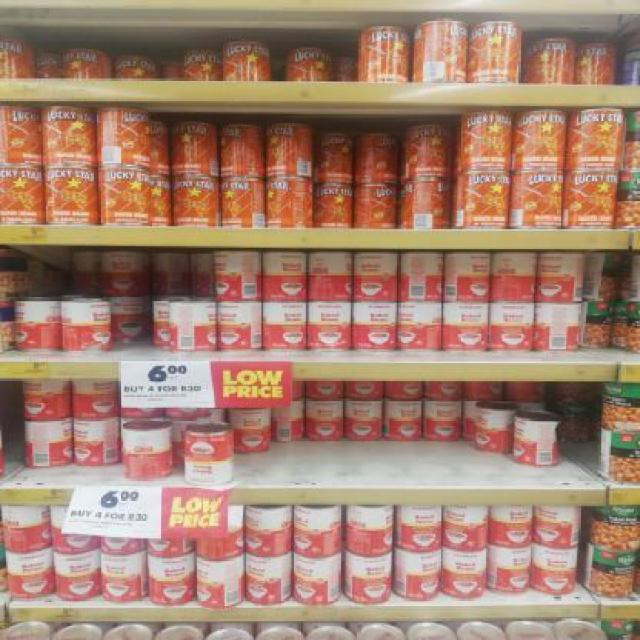Beans: (99, 104, 157, 144), (40, 165, 103, 201), (573, 110, 631, 148), (514, 109, 574, 145), (460, 109, 518, 146), (41, 107, 97, 141), (102, 167, 158, 201), (360, 22, 412, 58), (475, 23, 523, 60), (574, 167, 622, 204), (462, 174, 513, 208), (265, 252, 314, 286), (519, 169, 567, 203), (529, 40, 578, 71), (449, 254, 498, 285), (214, 299, 263, 330), (171, 120, 219, 151), (319, 129, 359, 166), (171, 178, 227, 204), (353, 300, 399, 331), (444, 301, 490, 332), (537, 251, 581, 283), (266, 301, 309, 333), (233, 406, 277, 437), (267, 125, 311, 156), (51, 552, 103, 578), (147, 556, 199, 582), (404, 548, 446, 580), (116, 50, 162, 79), (414, 124, 457, 155), (476, 404, 514, 438), (355, 253, 399, 282), (495, 302, 535, 333), (305, 399, 349, 427), (536, 549, 587, 573), (400, 506, 443, 534), (311, 301, 354, 329), (183, 459, 229, 485), (2, 166, 40, 197), (179, 52, 223, 78), (102, 253, 146, 279), (292, 48, 336, 72), (228, 44, 268, 70), (426, 395, 469, 419), (66, 49, 102, 77), (267, 179, 303, 207), (318, 183, 356, 209), (492, 503, 534, 526), (9, 555, 49, 579), (348, 399, 386, 423), (76, 302, 114, 326), (391, 396, 423, 424), (6, 108, 40, 134), (71, 420, 107, 444), (22, 382, 66, 400), (363, 185, 397, 203)
